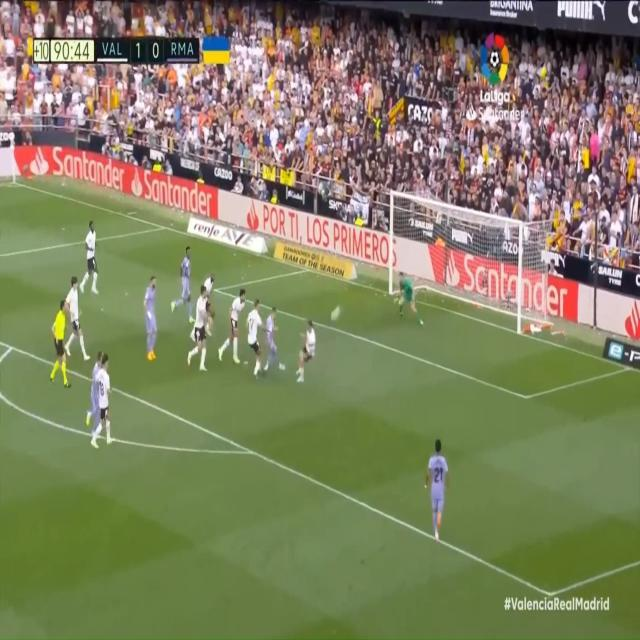ball: (329, 307, 341, 325)
goalkeeper: (391, 269, 425, 328)
player: (427, 432, 451, 540), (218, 288, 247, 368), (170, 242, 195, 325), (93, 350, 113, 453), (187, 284, 209, 373), (64, 274, 86, 358), (245, 294, 266, 376), (265, 300, 286, 378), (85, 347, 104, 432), (79, 217, 99, 297), (144, 270, 161, 364), (297, 315, 319, 385), (202, 270, 217, 337)
referee: (47, 298, 69, 389)
